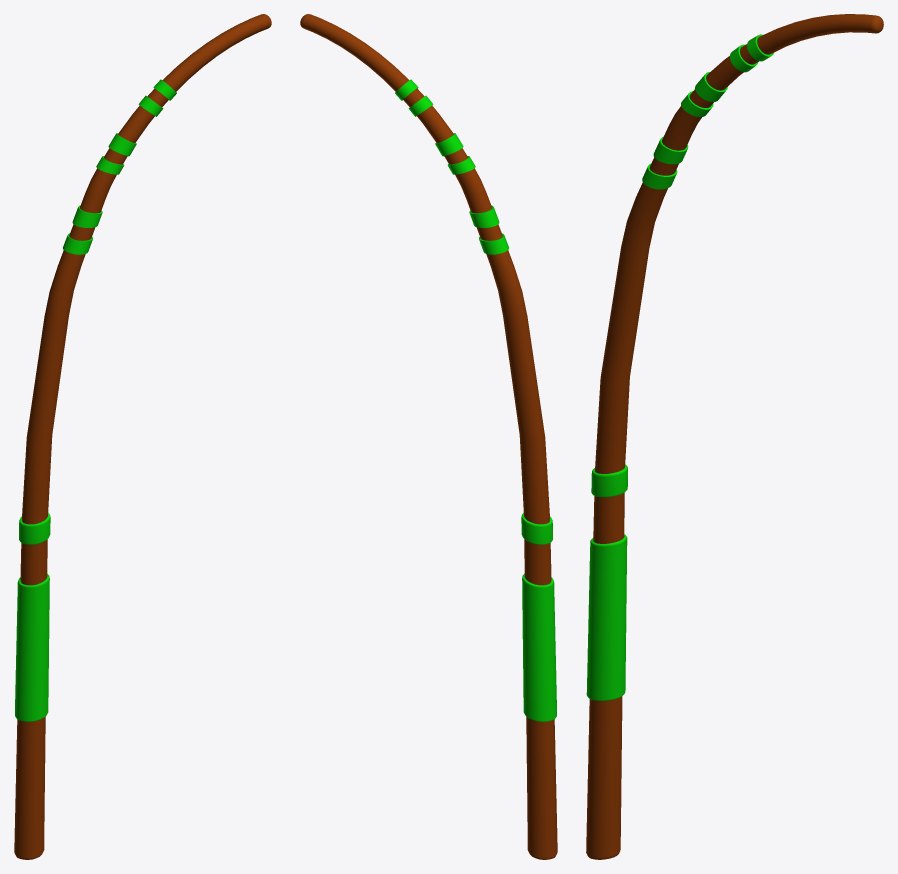
The model's file is Fish Rod New (1).fbx.
3 views of the same model, side by side, from view 1: azimuth 30°, elevation 25°; view 2: azimuth 150°, elevation 25°; view 3: azimuth 330°, elevation 25° (orthographic). The views are drawn at different scales.
Visible parts, largest first — view 1: Fishing_Rod; view 2: Fishing_Rod; view 3: Fishing_Rod.
Part boxes in pixels (box(x1,y1,x2,y2)): Fishing_Rod: box(14, 14, 271, 859); Fishing_Rod: box(300, 14, 557, 859); Fishing_Rod: box(586, 14, 883, 859).
Bounding box in the file's own units: 3.42 × 10.11 × 0.3885.
